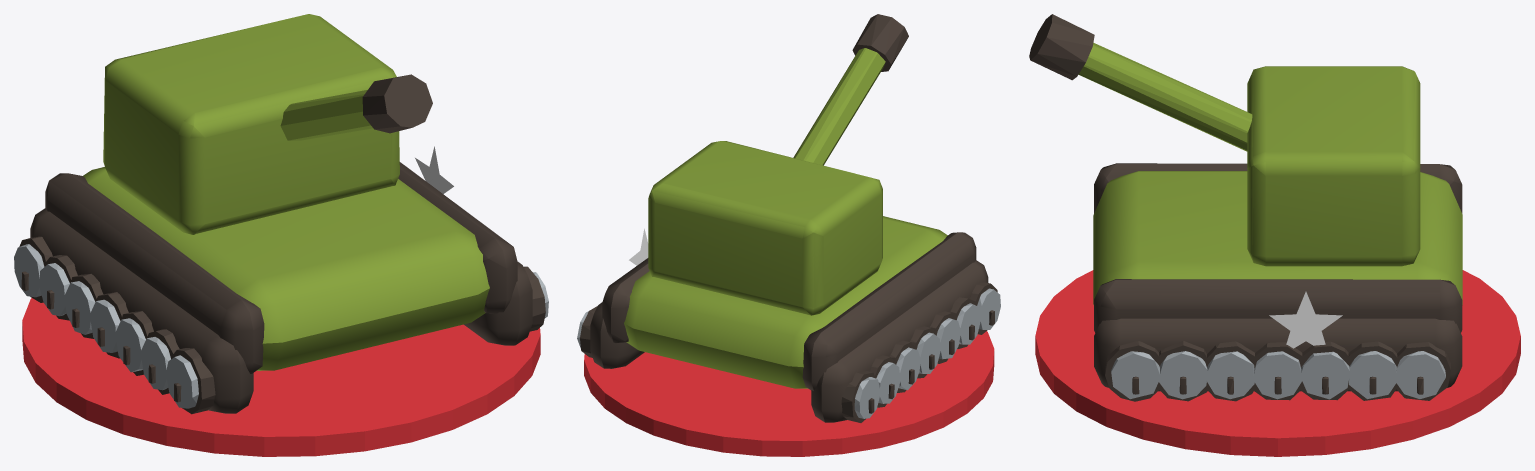
Rendered from usa_artillery_lod0.glb.
3 renders of one model, left to right at view 1: azimuth 30°, elevation 25°; view 2: azimuth 150°, elevation 25°; view 3: azimuth 270°, elevation 25°, orthographic. The views are drawn at different scales.
Parts seen in each view (by area): view 1: body_hull, base_pedestal; view 2: body_hull, base_pedestal; view 3: body_hull, base_pedestal.
Boxes of the visible parts, x1,y1,x2,y2 form: body_hull: [14, 14, 548, 414]; base_pedestal: [22, 298, 540, 456]; body_hull: [577, 14, 1000, 422]; base_pedestal: [584, 331, 994, 456]; body_hull: [1029, 14, 1462, 401]; base_pedestal: [1035, 270, 1520, 456].
Size of the model in its own units: 0.7701 by 0.5885 by 0.78.
